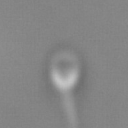normal: (59, 92, 82, 128)
